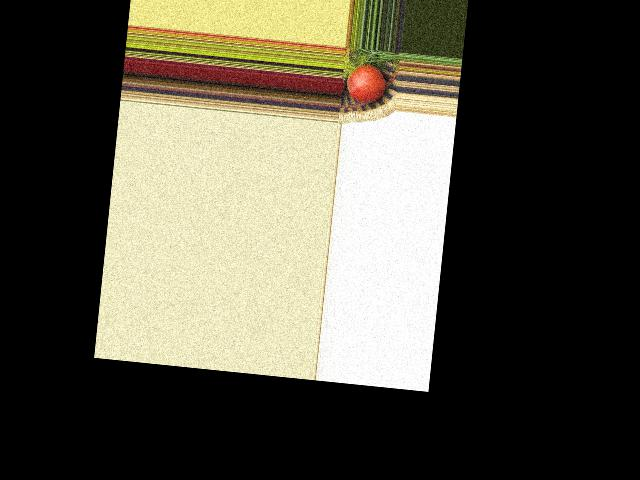tomato: (345, 62, 387, 104)
